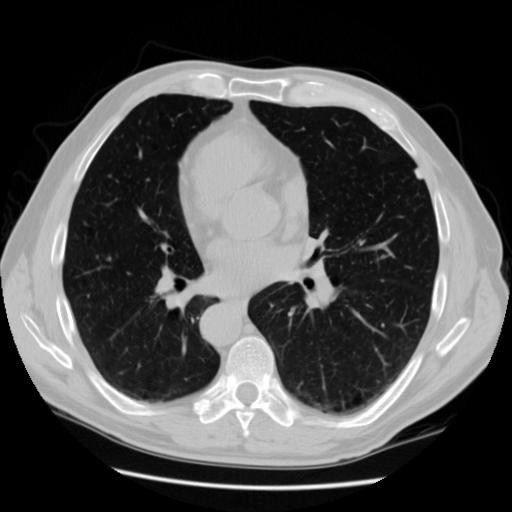nodule: (413, 166, 429, 182)
